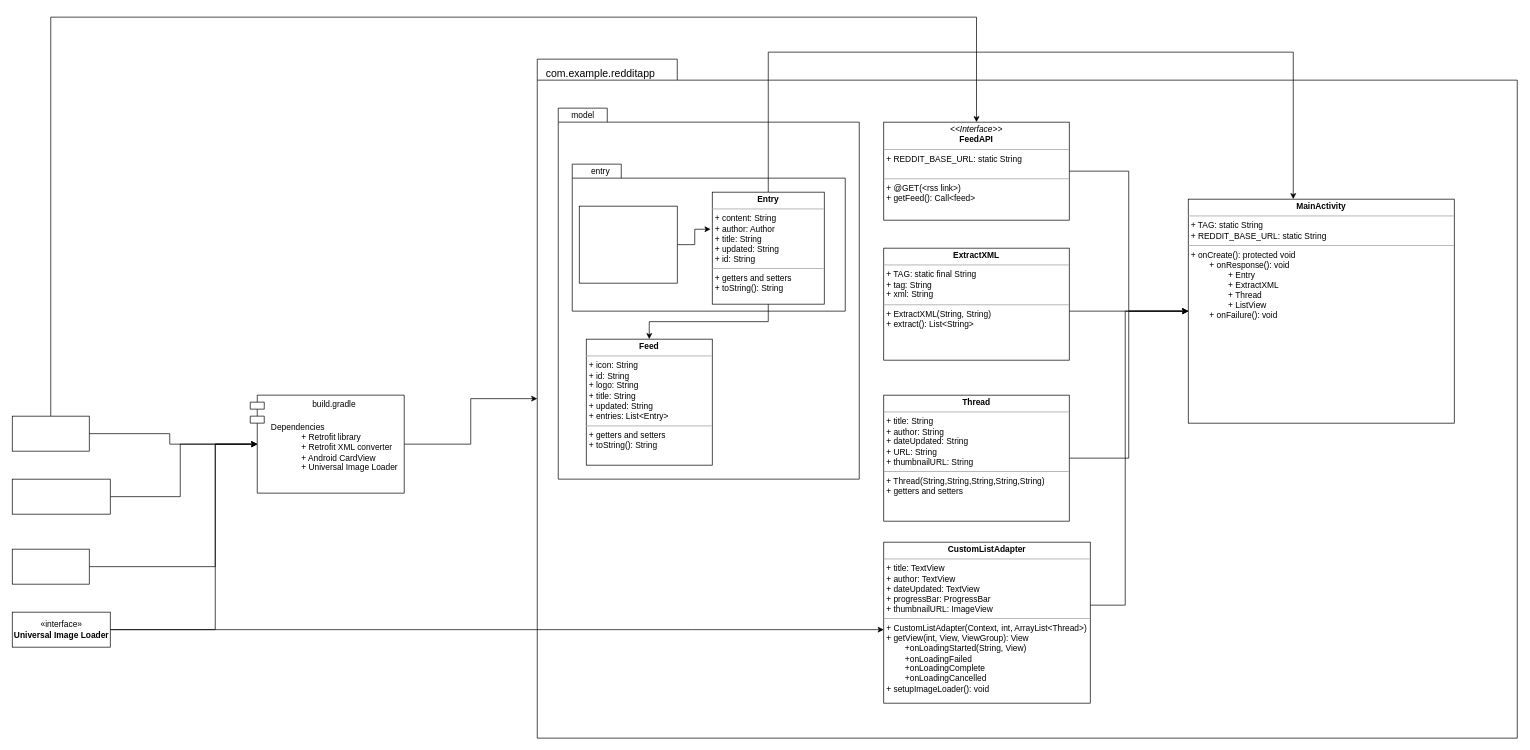
Some shapes in this 1530 by 750 pixel diagram are drawn without their labels. Here are the shapes that lost their labels. From the top down, the centre of each, then its label:
At point 628,244: "Author + name: String + URI: String + getters and setters + toString(): String".
At point 50,433: "«interface» Retrofit".
At point 61,496: "«interface» Retrofit XML converter".
At point 50,566: "«interface» CardView".
